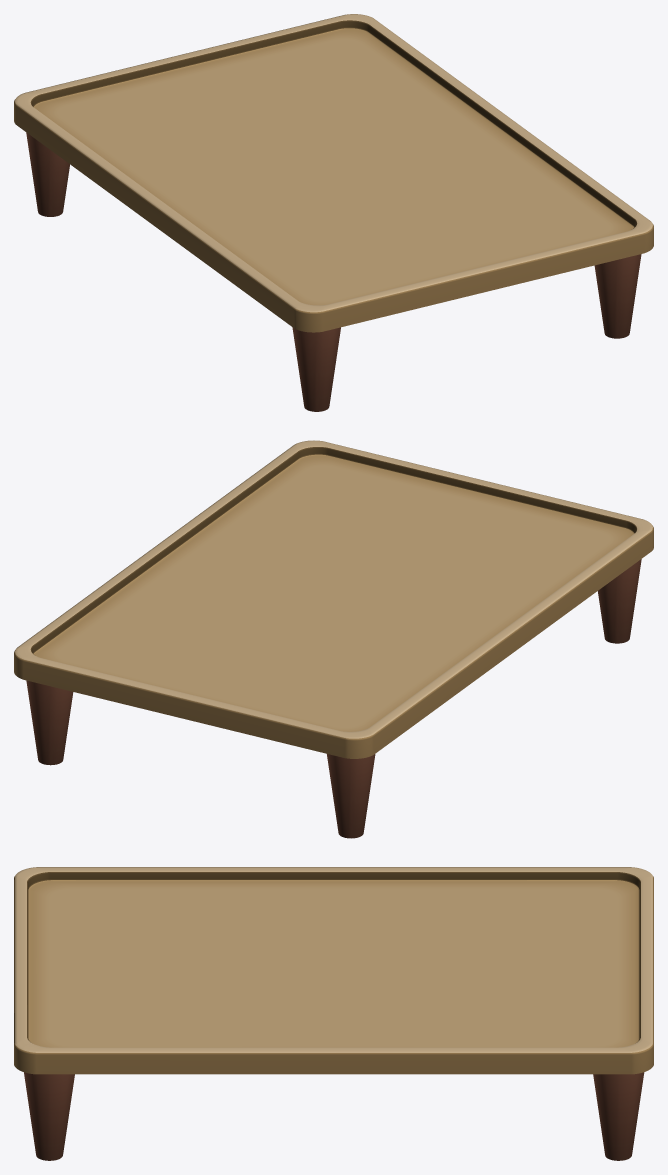
The model's file is table_2.fbx.
3 renders of one model, top to bottom at view 1: azimuth 30°, elevation 25°; view 2: azimuth 150°, elevation 25°; view 3: azimuth 270°, elevation 25°, orthographic. The views are drawn at different scales.
Visible parts, largest first — view 1: table_2; view 2: table_2; view 3: table_2.
Part boxes in pixels (x1,y1,x2,y2): table_2: (14, 14, 653, 411); table_2: (14, 440, 653, 838); table_2: (14, 867, 653, 1160).
Size of the model in its own units: 11.74 by 3.44 by 17.01.
